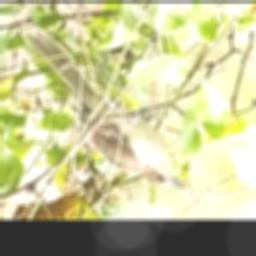Cuckoo: (24, 29, 184, 190)
